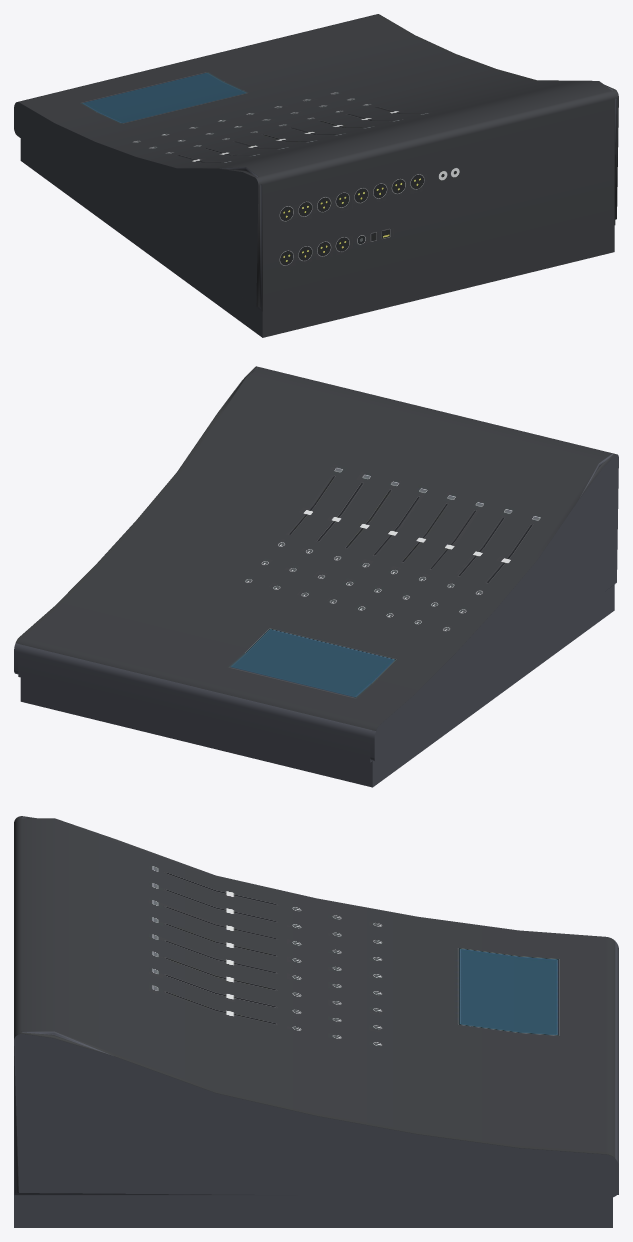
File: yamaha-tf1.glb
The picture shows the model from 3 angles, top to bottom: view 1: azimuth 30°, elevation 25°; view 2: azimuth 150°, elevation 25°; view 3: azimuth 270°, elevation 25°; orthographic projection. The views are drawn at different scales.
Parts seen in each view (by area): view 1: yamaha-tf1-body; view 2: yamaha-tf1-body; view 3: yamaha-tf1-body.
Part boxes in pixels (left/top/right/bottom): yamaha-tf1-body: left=14, top=14, right=618, bottom=337; yamaha-tf1-body: left=14, top=366, right=618, bottom=787; yamaha-tf1-body: left=14, top=816, right=618, bottom=1227.
Size of the model in its own units: 0.51 by 0.225 by 0.599.
1 material, 1 textured.
